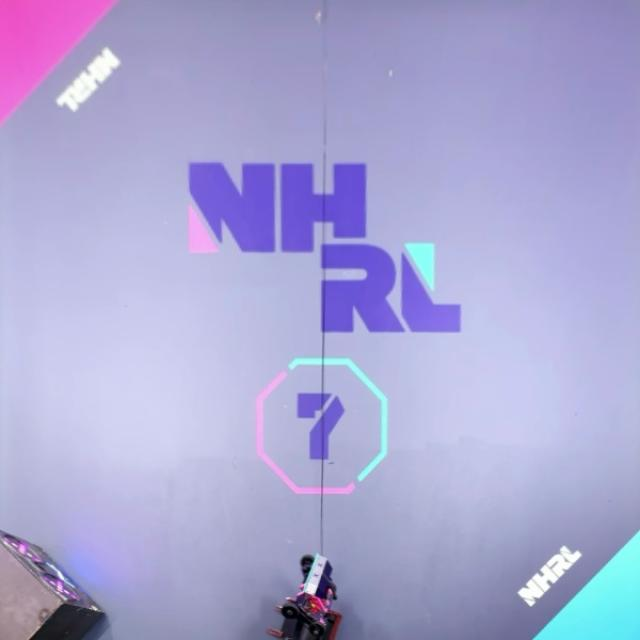housebot: (0, 527, 108, 639)
robot: (281, 554, 337, 637), (267, 600, 343, 640)
